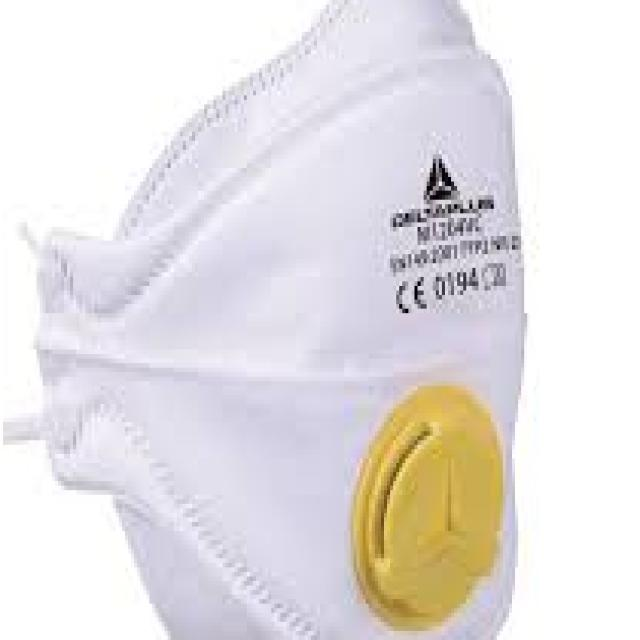organic: (23, 17, 515, 613)
